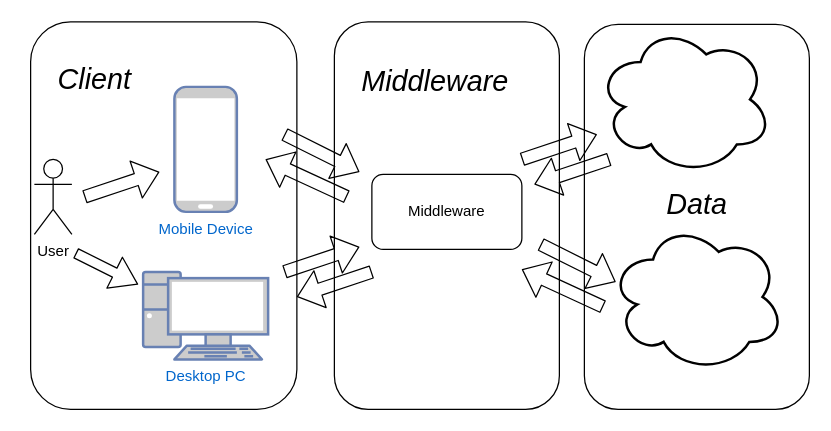
The diagram is 831 pixels wide and 431 high, and some of its shapes have lost their labels. Here are the shapes that lost their labels. From the top down, the centre of each, then its label:
At [683,98]: "UBDC web services".
At [696,296]: "Other web services".
